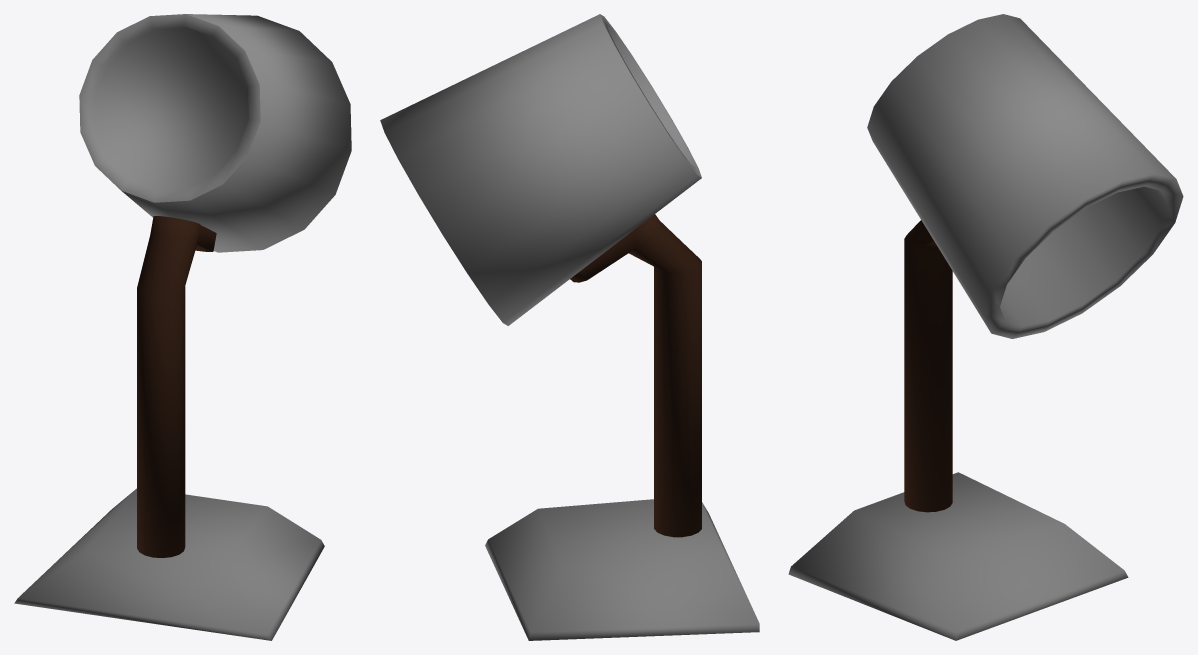
File: tablelamp.glb
3 views of the same model, side by side, from view 1: azimuth 30°, elevation 25°; view 2: azimuth 150°, elevation 25°; view 3: azimuth 270°, elevation 25° (orthographic).
Visible parts, largest first — view 1: Cylinder.010; view 2: Cylinder.010; view 3: Cylinder.010.
Boxes of the visible parts, <box> form: Cylinder.010: <box>14,14,351,640</box>; Cylinder.010: <box>380,14,759,640</box>; Cylinder.010: <box>788,14,1183,640</box>.
Size of the model in its own units: 0.621 by 0.9575 by 0.6107.
